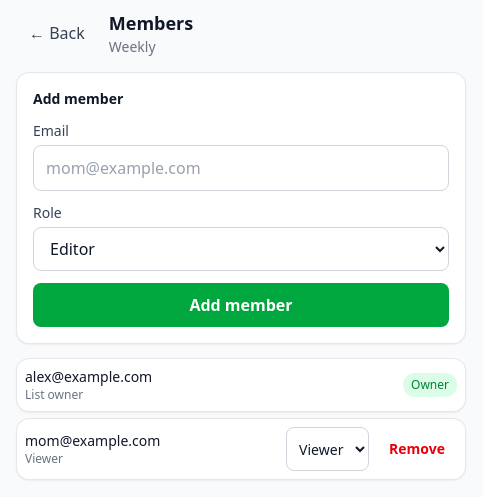
Scenario: MembersPage (docs/TASKS.md → T20) › changes a member's role (DoD): PATCH body, payload refetch reflects the new role
The width and height of the screenshot is (483, 497).
Check: the list item with test id "member-row-u2" is shown, box [17, 419, 465, 479]
Select "Editor" in the dropdown named "Role for mom@example.com": [328, 449] box [286, 427, 369, 471]
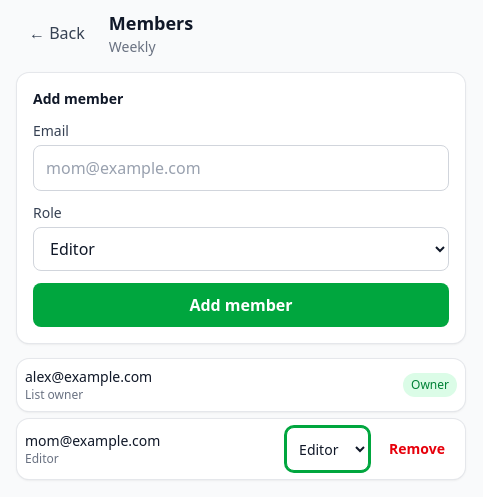
Check: the text "Editor" is shown, box [25, 450, 59, 467]
